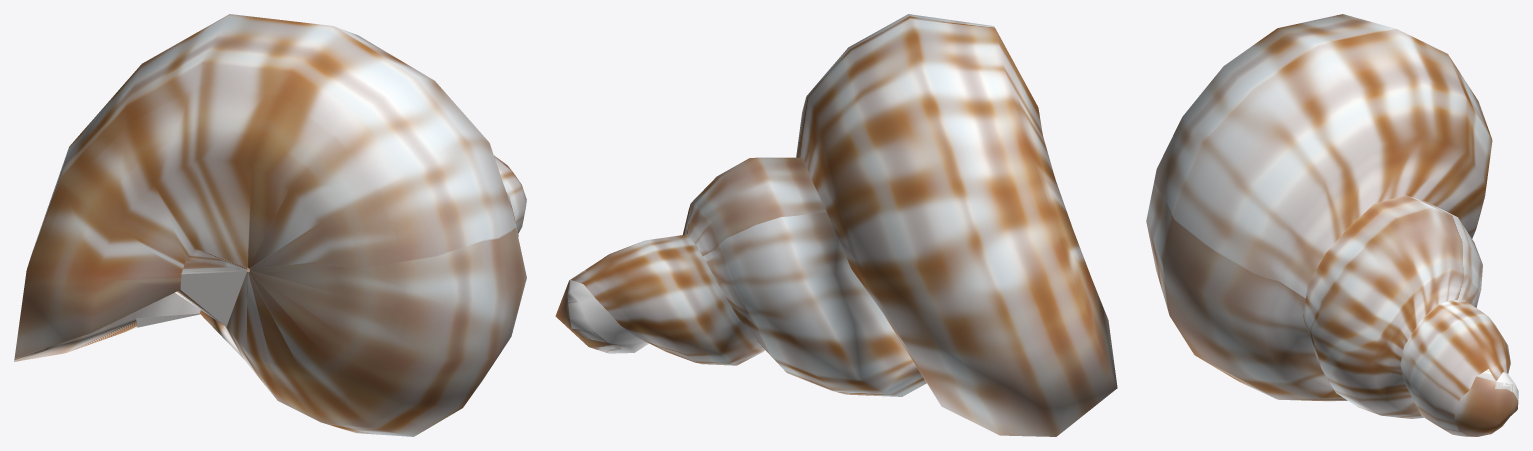
Rendered from seaSnail.fbx.
The picture shows the model from 3 angles, left to right: view 1: azimuth 30°, elevation 25°; view 2: azimuth 150°, elevation 25°; view 3: azimuth 270°, elevation 25°; orthographic projection. The views are drawn at different scales.
Parts seen in each view (by area): view 1: SeaSnail; view 2: SeaSnail; view 3: SeaSnail.
Part boxes in pixels (bbox=[...]): SeaSnail: bbox=[14, 14, 526, 436]; SeaSnail: bbox=[555, 14, 1117, 436]; SeaSnail: bbox=[1146, 14, 1518, 436].
Bounding box in the file's own units: 22.01 × 15.26 × 15.33.
